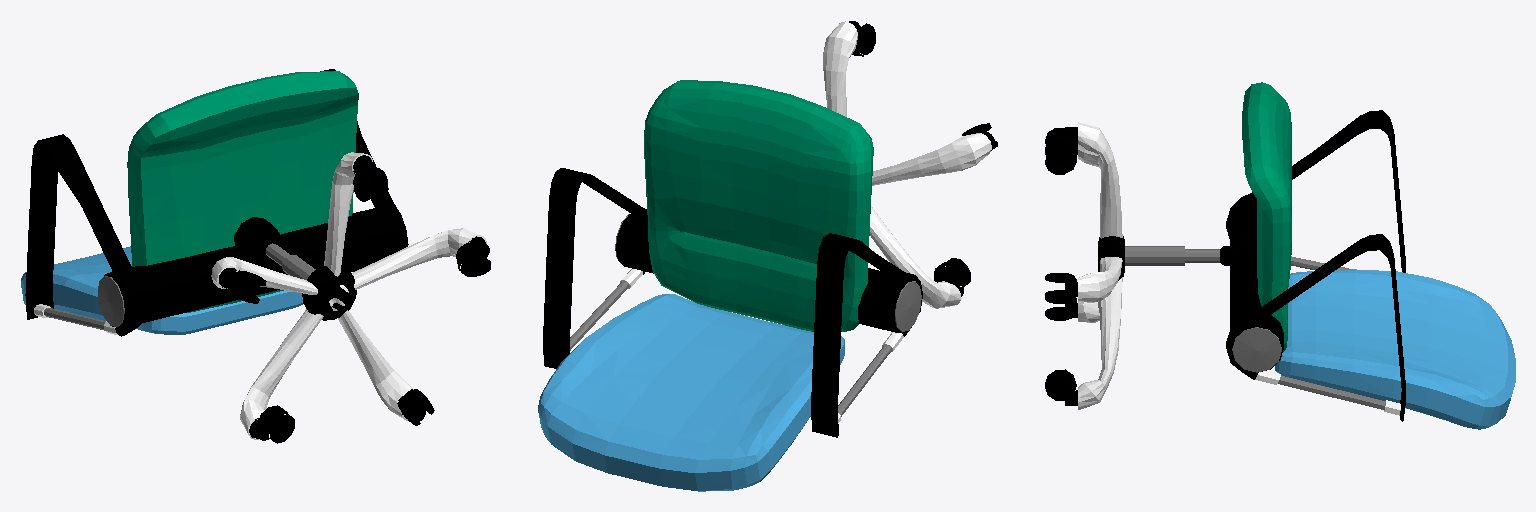
robot.urdf — 677:
<robot name="677">


	<link name="0:virtual">
		<visual>
			<origin xyz="0.0 0.0 0.0" rpy="0 0 0"/>
			<geometry>
				<cylinder length="0" radius="0"/>
			</geometry>
		</visual>
	</link>


	<link name="1:static">
		<visual>
			<origin xyz="-0.0 -0.0 -0.0" rpy="0 0 0"/>
			<geometry>
				<mesh filename="../raw_data/677/part_meshes/1.dae" />
			</geometry>
		</visual>
	</link>


	<link name="2:wheel 1">
		<visual>
			<origin xyz="-0.027663150588627266 -0.028591479753231397 -0.2406275030271069" rpy="0 0 0"/>
			<geometry>
				<mesh filename="../raw_data/677/part_meshes/2.dae" />
			</geometry>
		</visual>
	</link>


	<link name="3:wheel 2">
		<visual>
			<origin xyz="0.22030192459882125 -0.02859147645176563 -0.10066716623565913" rpy="0 0 0"/>
			<geometry>
				<mesh filename="../raw_data/677/part_meshes/3.dae" />
			</geometry>
		</visual>
	</link>


	<link name="4:wheel 3">
		<visual>
			<origin xyz="0.16381675467979262 -0.028591470401806873 0.17841172702578784" rpy="0 0 0"/>
			<geometry>
				<mesh filename="../raw_data/677/part_meshes/4.dae" />
			</geometry>
		</visual>
	</link>


	<link name="5:wheel 4">
		<visual>
			<origin xyz="-0.11905785305228711 -0.028591469752427656 0.21093176676803724" rpy="0 0 0"/>
			<geometry>
				<mesh filename="../raw_data/677/part_meshes/5.dae" />
			</geometry>
		</visual>
	</link>


	<link name="6:wheel 5">
		<visual>
			<origin xyz="-0.23739850473662313 -0.028591475253051613 -0.048049303252305026" rpy="0 0 0"/>
			<geometry>
				<mesh filename="../raw_data/677/part_meshes/6.dae" />
			</geometry>
		</visual>
	</link>


	<link name="7:arm 1">
		<visual>
			<origin xyz="-0.26749473241944555 -0.3885025156736371 0.062034388594173276" rpy="0 0 0"/>
			<geometry>
				<mesh filename="../raw_data/677/part_meshes/7.dae" />
			</geometry>
		</visual>
	</link>


	<link name="8:arm 2">
		<visual>
			<origin xyz="0.27090938829282535 -0.40313901448249795 0.05488314819961332" rpy="0 0 0"/>
			<geometry>
				<mesh filename="../raw_data/677/part_meshes/8.dae" />
			</geometry>
		</visual>
	</link>


	<link name="9:backrest 1">
		<visual>
			<origin xyz="-0.0158500068187714 -0.4220700063705444 0.12497900444269182" rpy="0 0 0"/>
			<geometry>
				<mesh filename="../raw_data/677/part_meshes/9.dae" />
			</geometry>
		</visual>
	</link>


	<link name="10:seat 1">
		<visual>
			<origin xyz="-0.0 -0.41506899893283844 -0.07989000529050827" rpy="0 0 0"/>
			<geometry>
				<mesh filename="../raw_data/677/part_meshes/10.dae" />
			</geometry>
		</visual>
	</link>


	<link name="11:caster 1">
		<visual>
			<origin xyz="0.22672291657796179 -0.05018809996545315 -0.10360149874936771" rpy="0 0 0"/>
			<geometry>
				<mesh filename="../raw_data/677/part_meshes/11.dae" />
			</geometry>
		</visual>
	</link>


	<link name="12:caster 2">
		<visual>
			<origin xyz="-0.028469488594168143 -0.05018809996545315 -0.24764073947692455" rpy="0 0 0"/>
			<geometry>
				<mesh filename="../raw_data/677/part_meshes/12.dae" />
			</geometry>
		</visual>
	</link>


	<link name="13:caster 3">
		<visual>
			<origin xyz="-0.24431828963640798 -0.05018809996545315 -0.04944960028321506" rpy="0 0 0"/>
			<geometry>
				<mesh filename="../raw_data/677/part_meshes/13.dae" />
			</geometry>
		</visual>
	</link>


	<link name="14:caster 4">
		<visual>
			<origin xyz="-0.12252772419614041 -0.05018809996545315 0.21707947155364787" rpy="0 0 0"/>
			<geometry>
				<mesh filename="../raw_data/677/part_meshes/14.dae" />
			</geometry>
		</visual>
	</link>


	<link name="15:caster 5">
		<visual>
			<origin xyz="0.16859175064973114 -0.05018809996545315 0.18361175274259714" rpy="0 0 0"/>
			<geometry>
				<mesh filename="../raw_data/677/part_meshes/15.dae" />
			</geometry>
		</visual>
	</link>


	<link name="16:gas lift piece 2">
		<visual>
			<origin xyz="-0.0 -0.20668649673461914 -0.0" rpy="0 0 0"/>
			<geometry>
				<mesh filename="../raw_data/677/part_meshes/16.dae" />
			</geometry>
		</visual>
	</link>


	<joint name="0:virtual::1:static" type="fixed">
		<parent link="0:virtual"/>
		<child link="1:static"/>
		<origin xyz="0.0 0.0 0.0" rpy="0 0 0"/>
	</joint>


	<joint name="12:caster 2::2:wheel 1_rotation" type="revolute">
		<parent link="12:caster 2"/>
		<child link="2:wheel 1"/>
		<origin xyz="-0.000806338005540877 -0.02159662021222175 -0.007013236449817661" rpy="0 0 0"/>
		<limit lower="-3.141592653589793" upper="3.141592653589793" effort="10" velocity="3"/>
		<axis xyz="-0.9934555841225584 0.0 0.11421909812157696"/>
	</joint>


	<joint name="11:caster 1::3:wheel 2_rotation" type="revolute">
		<parent link="11:caster 1"/>
		<child link="3:wheel 2"/>
		<origin xyz="0.0064209919791405334 -0.02159662351368752 -0.0029343325137085735" rpy="0 0 0"/>
		<limit lower="-3.141592653589793" upper="3.141592653589793" effort="10" velocity="3"/>
		<axis xyz="0.4156053825341069 0.0 0.9095450324248265"/>
	</joint>


	<joint name="15:caster 5::4:wheel 3_rotation" type="revolute">
		<parent link="15:caster 5"/>
		<child link="4:wheel 3"/>
		<origin xyz="0.0047749959699385225 -0.021596629563646275 0.005200025716809303" rpy="0 0 0"/>
		<limit lower="-3.141592653589793" upper="3.141592653589793" effort="10" velocity="3"/>
		<axis xyz="-0.7365717539154187 0.0 0.6763594098805485"/>
	</joint>


	<joint name="14:caster 4::5:wheel 4_rotation" type="revolute">
		<parent link="14:caster 4"/>
		<child link="5:wheel 4"/>
		<origin xyz="-0.0034698711438533036 -0.02159663021302549 0.006147704785610636" rpy="0 0 0"/>
		<limit lower="-3.141592653589793" upper="3.141592653589793" effort="10" velocity="3"/>
		<axis xyz="0.8708486136989014 0.0 0.4915513116844481"/>
	</joint>


	<joint name="13:caster 3::6:wheel 5_rotation" type="revolute">
		<parent link="13:caster 3"/>
		<child link="6:wheel 5"/>
		<origin xyz="-0.006919784899784842 -0.021596624712401535 -0.0014002970309100332" rpy="0 0 0"/>
		<limit lower="-3.141592653589793" upper="3.141592653589793" effort="10" velocity="3"/>
		<axis xyz="-0.19836819123998164 0.0 0.9801275736883328"/>
	</joint>


	<joint name="16:gas lift piece 2::7:arm 1_rotation" type="revolute">
		<parent link="16:gas lift piece 2"/>
		<child link="7:arm 1"/>
		<origin xyz="0.26749473241944555 0.18181601893901794 -0.062034388594173276" rpy="0 0 0"/>
		<limit lower="0.0" upper="0.45553093477052" effort="10" velocity="3"/>
		<axis xyz="0.9999999999252549 0.0 -1.2226616503777492e-05"/>
	</joint>


	<joint name="16:gas lift piece 2::8:arm 2_rotation" type="revolute">
		<parent link="16:gas lift piece 2"/>
		<child link="8:arm 2"/>
		<origin xyz="-0.27090938829282535 0.1964525177478788 -0.05488314819961332" rpy="0 0 0"/>
		<limit lower="-0.45553093477052" upper="0.0" effort="10" velocity="3"/>
		<axis xyz="-0.9999999999252549 0.0 -1.2226616503777492e-05"/>
	</joint>


	<joint name="10:seat 1::9:backrest 1_rotation" type="revolute">
		<parent link="10:seat 1"/>
		<child link="9:backrest 1"/>
		<origin xyz="0.0158500068187714 0.007001007437705986 -0.2048690097332001" rpy="0 0 0"/>
		<limit lower="-0.21991148575128555" upper="0.3612831551628262" effort="10" velocity="3"/>
		<axis xyz="1.0 0.0 0.0"/>
	</joint>


	<joint name="16:gas lift piece 2::10:seat 1_translation" type="prismatic">
		<parent link="16:gas lift piece 2"/>
		<child link="10:seat 1"/>
		<origin xyz="0.0 0.2083825021982193 0.07989000529050827" rpy="0 0 0"/>
		<limit lower="-0.03417399525642395" upper="0.03417399525642395" effort="10" velocity="3"/>
		<axis xyz="0.0 1.0 0.0"/>
	</joint>


	<joint name="0:virtual::11:caster 1_rotation" type="revolute">
		<parent link="0:virtual"/>
		<child link="11:caster 1"/>
		<origin xyz="-0.22672291657796179 0.05018809996545315 0.10360149874936771" rpy="0 0 0"/>
		<limit lower="-3.141592653589793" upper="3.141592653589793" effort="10" velocity="3"/>
		<axis xyz="0.0 1.0 0.0"/>
	</joint>


	<joint name="0:virtual::12:caster 2_rotation" type="revolute">
		<parent link="0:virtual"/>
		<child link="12:caster 2"/>
		<origin xyz="0.028469488594168143 0.05018809996545315 0.24764073947692455" rpy="0 0 0"/>
		<limit lower="-3.141592653589793" upper="3.141592653589793" effort="10" velocity="3"/>
		<axis xyz="0.0 1.0 0.0"/>
	</joint>


	<joint name="0:virtual::13:caster 3_rotation" type="revolute">
		<parent link="0:virtual"/>
		<child link="13:caster 3"/>
		<origin xyz="0.24431828963640798 0.05018809996545315 0.04944960028321506" rpy="0 0 0"/>
		<limit lower="-3.141592653589793" upper="3.141592653589793" effort="10" velocity="3"/>
		<axis xyz="0.0 1.0 0.0"/>
	</joint>


	<joint name="0:virtual::14:caster 4_rotation" type="revolute">
		<parent link="0:virtual"/>
		<child link="14:caster 4"/>
		<origin xyz="0.12252772419614041 0.05018809996545315 -0.21707947155364787" rpy="0 0 0"/>
		<limit lower="-3.141592653589793" upper="3.141592653589793" effort="10" velocity="3"/>
		<axis xyz="0.0 1.0 0.0"/>
	</joint>


	<joint name="0:virtual::15:caster 5_rotation" type="revolute">
		<parent link="0:virtual"/>
		<child link="15:caster 5"/>
		<origin xyz="-0.16859175064973114 0.05018809996545315 -0.18361175274259714" rpy="0 0 0"/>
		<limit lower="-3.141592653589793" upper="3.141592653589793" effort="10" velocity="3"/>
		<axis xyz="0.0 1.0 0.0"/>
	</joint>


	<joint name="0:virtual::16:gas lift piece 2_rotation" type="revolute">
		<parent link="0:virtual"/>
		<child link="16:gas lift piece 2"/>
		<origin xyz="0.0 0.20668649673461914 0.0" rpy="0 0 0"/>
		<limit lower="-3.141592653589793" upper="3.141592653589793" effort="10" velocity="3"/>
		<axis xyz="0.0 1.0 0.0"/>
	</joint>


</robot>

--- Render facts (derived) ---
3 views of the same robot in one strip: view 1: azimuth 30°, elevation 25°; view 2: azimuth 150°, elevation 25°; view 3: azimuth 270°, elevation 25° (orthographic).
Robot: 677 — 17 links, 16 joints (14 revolute, 1 prismatic, 1 fixed); root link 0:virtual; default pose: every joint at zero.
Visible links, largest first — view 1: 10:seat 1, 1:static, 16:gas lift piece 2, 8:arm 2, 9:backrest 1, 7:arm 1, 4:wheel 3, 2:wheel 1, 6:wheel 5, 11:caster 1; view 2: 10:seat 1, 9:backrest 1, 8:arm 2, 1:static, 7:arm 1, 16:gas lift piece 2, 4:wheel 3; view 3: 9:backrest 1, 10:seat 1, 1:static, 16:gas lift piece 2, 7:arm 1, 8:arm 2, 2:wheel 1, 5:wheel 4.
Boxes of the visible links, x1=… form: 10:seat 1: x1=127, y1=71, x2=358, y2=312; 1:static: x1=211, y1=152, x2=486, y2=439; 16:gas lift piece 2: x1=98, y1=208, x2=388, y2=327; 8:arm 2: x1=25, y1=134, x2=145, y2=336; 9:backrest 1: x1=21, y1=246, x2=302, y2=334; 7:arm 1: x1=320, y1=69, x2=408, y2=255; 4:wheel 3: x1=257, y1=406, x2=294, y2=443; 2:wheel 1: x1=353, y1=168, x2=388, y2=201; 6:wheel 5: x1=457, y1=241, x2=490, y2=276; 11:caster 1: x1=219, y1=268, x2=258, y2=295; 10:seat 1: x1=644, y1=80, x2=873, y2=331; 9:backrest 1: x1=538, y1=294, x2=844, y2=491; 8:arm 2: x1=811, y1=233, x2=922, y2=437; 1:static: x1=823, y1=21, x2=991, y2=308; 7:arm 1: x1=543, y1=168, x2=646, y2=368; 16:gas lift piece 2: x1=615, y1=214, x2=921, y2=332; 4:wheel 3: x1=934, y1=258, x2=970, y2=286; 9:backrest 1: x1=1275, y1=269, x2=1515, y2=429; 10:seat 1: x1=1242, y1=82, x2=1291, y2=351; 1:static: x1=1078, y1=122, x2=1124, y2=409; 16:gas lift piece 2: x1=1125, y1=203, x2=1283, y2=372; 7:arm 1: x1=1226, y1=234, x2=1405, y2=421; 8:arm 2: x1=1226, y1=110, x2=1405, y2=272; 2:wheel 1: x1=1045, y1=128, x2=1074, y2=162; 5:wheel 4: x1=1045, y1=370, x2=1074, y2=400.
Bounding box of the posed robot: 0.5995 × 0.8779 × 0.578 m (x, y, z).
16 mesh visuals loaded from 16 distinct referenced files (16 Collada DAE).